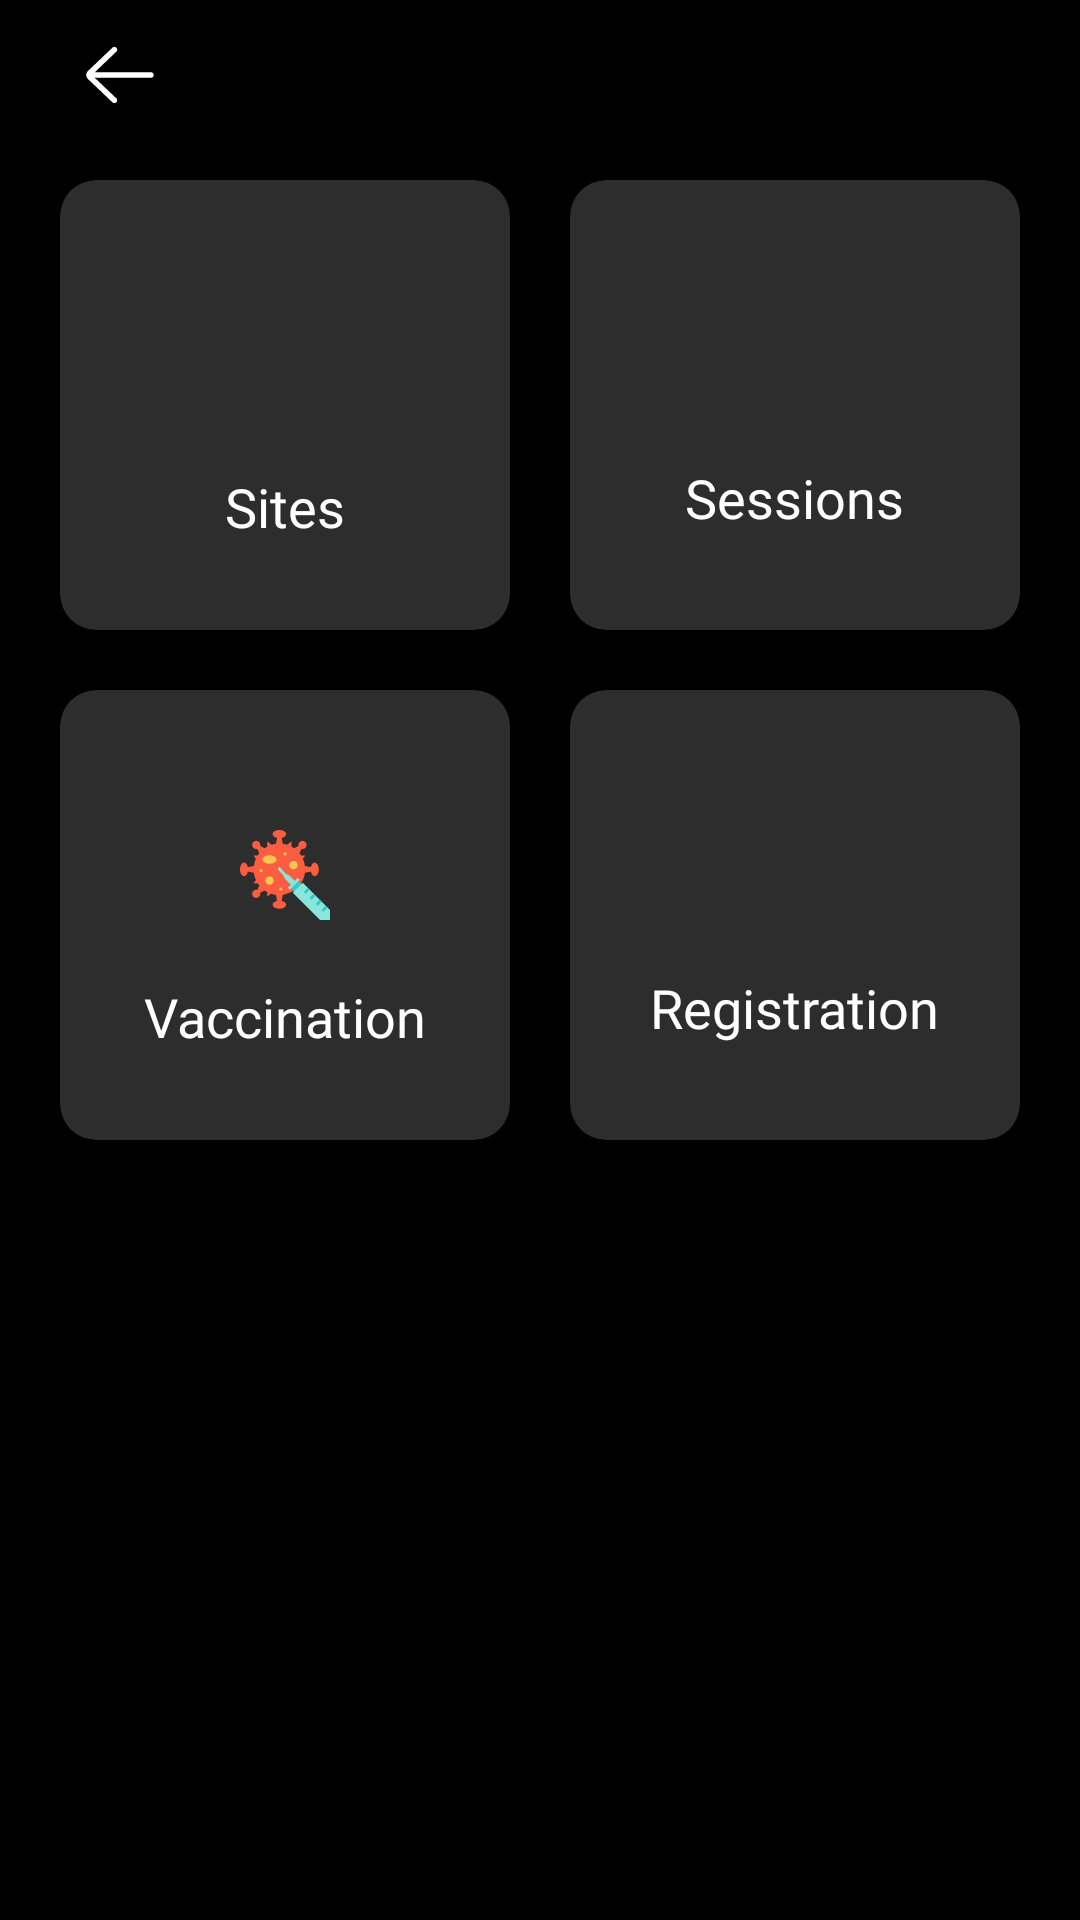

Icon bounding boxes for this 1080×1920 phone screenshot, format (x1, y1, x2, y2):
injection: (240, 830, 330, 920)
